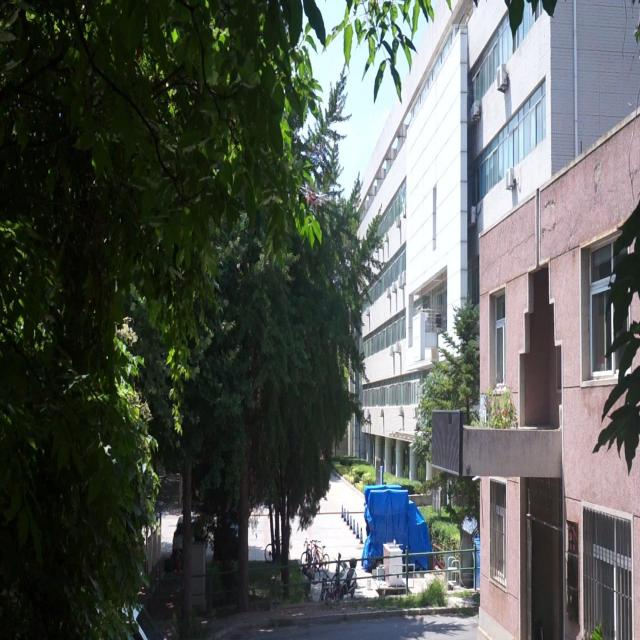UAV: (300, 186, 330, 216)
